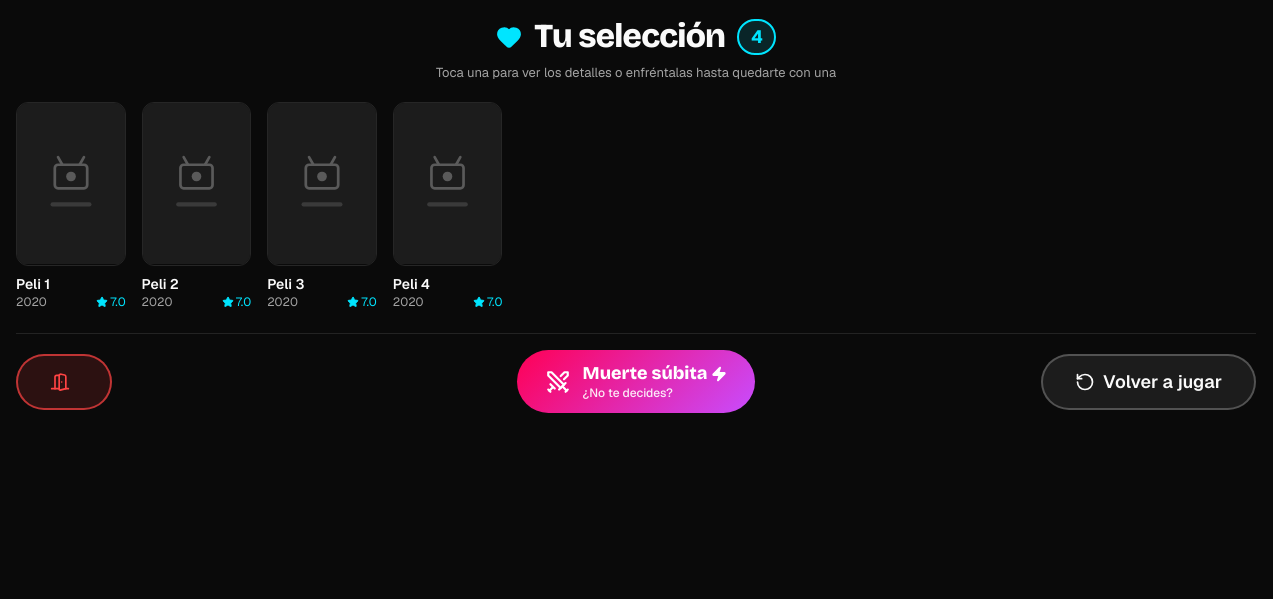
Test case: ShortlistView › la muerte súbita indica ronda, fase y enfrentamiento, y termina con un ganador
The image size is (1273, 599).
Click the button "Muerte súbita ¿No te decides?" at x=636, y=382, box [517,350,755,413]
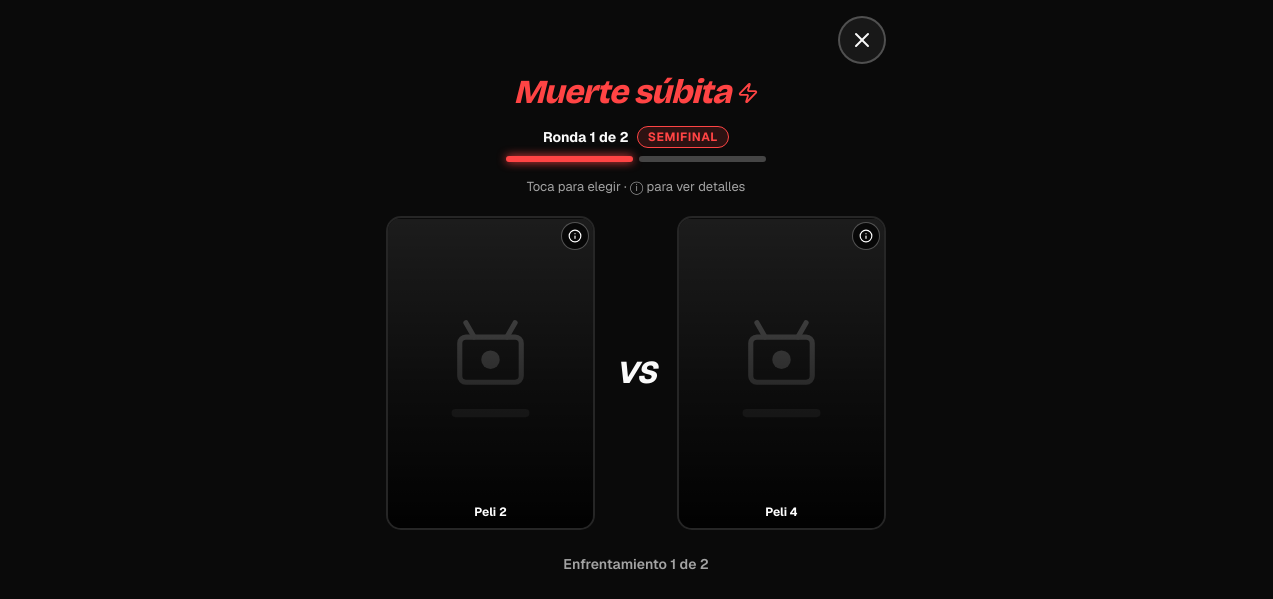
Expected: the text "Ronda 1 de 2" is shown, [543,127,629,147]
Expected: the text "Semifinal" is shown, [637,126,729,148]
Expected: the text "Enfrentamiento 1 de 2" is shown, [563,554,709,574]
Click the button "Peli 2" at x=491, y=373, box [386,216,595,530]
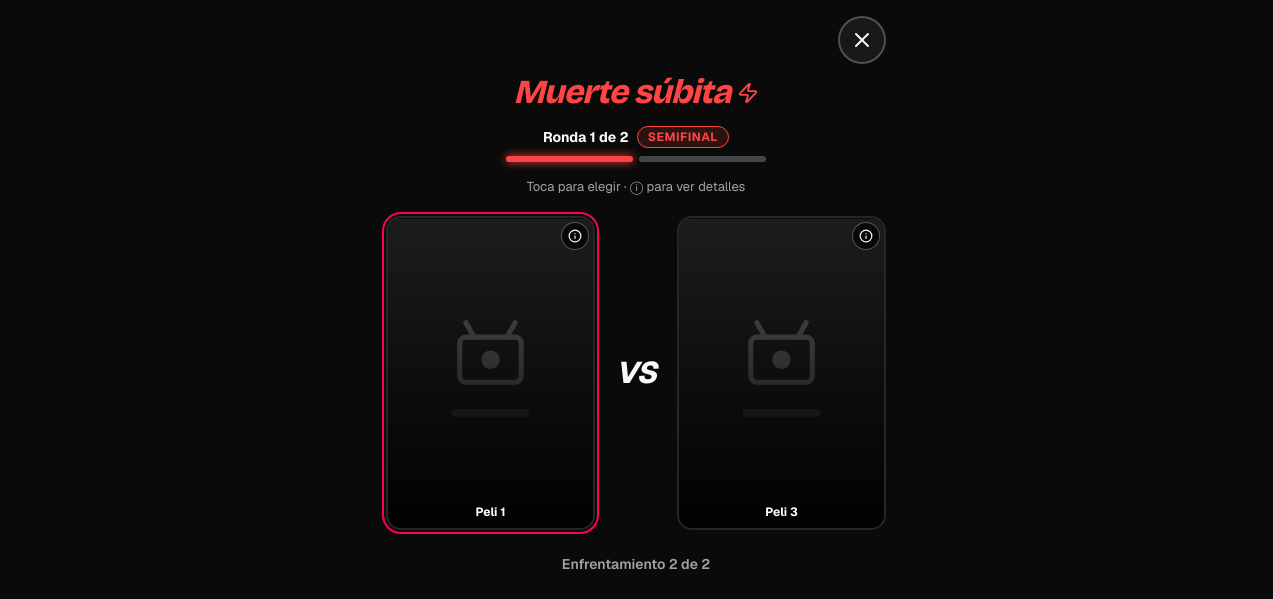
Expected: the text "Enfrentamiento 2 de 2" is shown, [562,554,710,574]
Click the button "Peli 1" at x=491, y=373, box [386,216,595,530]
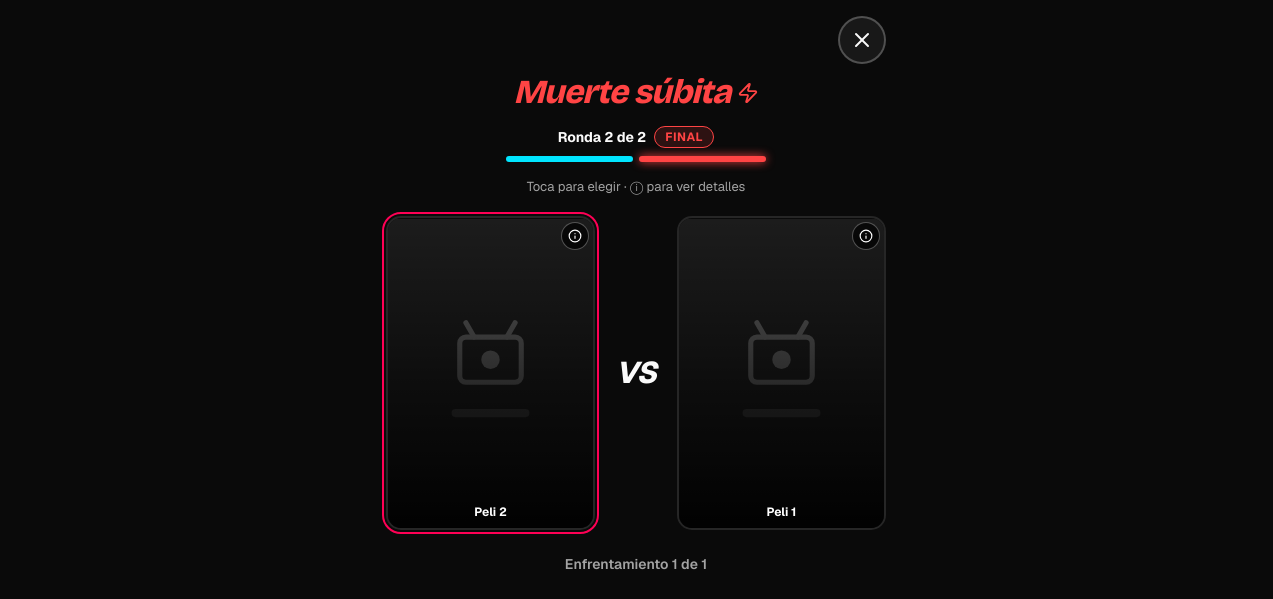
Expected: the text "Final" is shown, [654,126,714,148]
Expected: the text "Ronda 2 de 2" is shown, [558,127,646,147]
Click the button "Peli 2" at x=491, y=373, box [386,216,595,530]
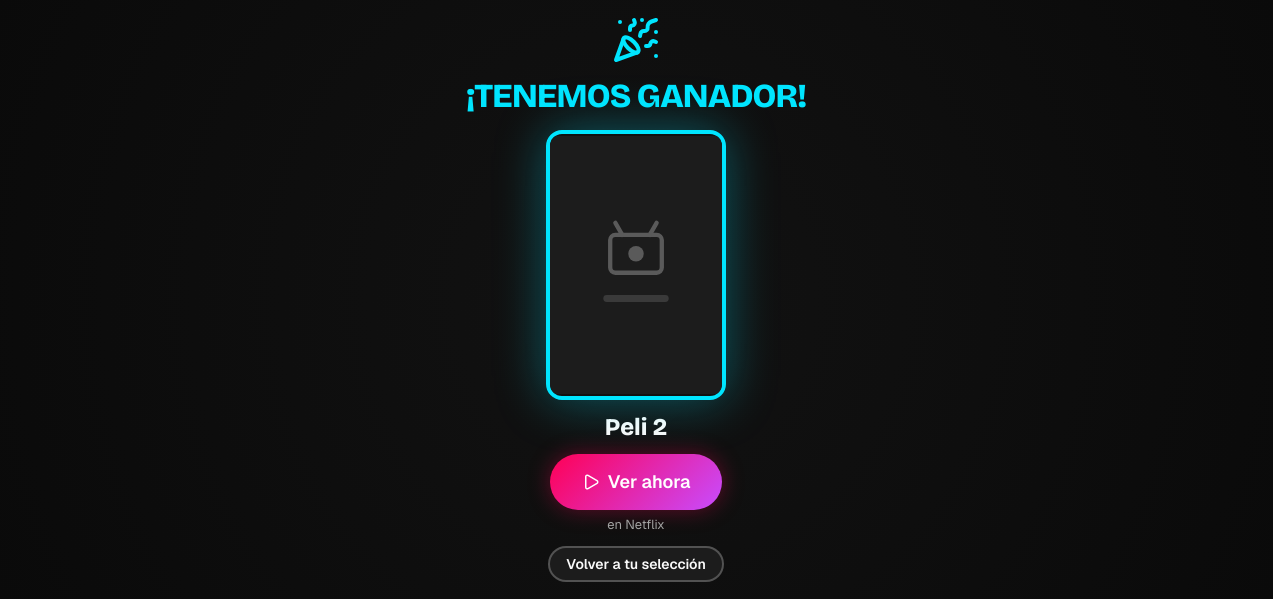
Expected: the heading "¡TENEMOS GANADOR!" is shown, [466,76,806,118]
